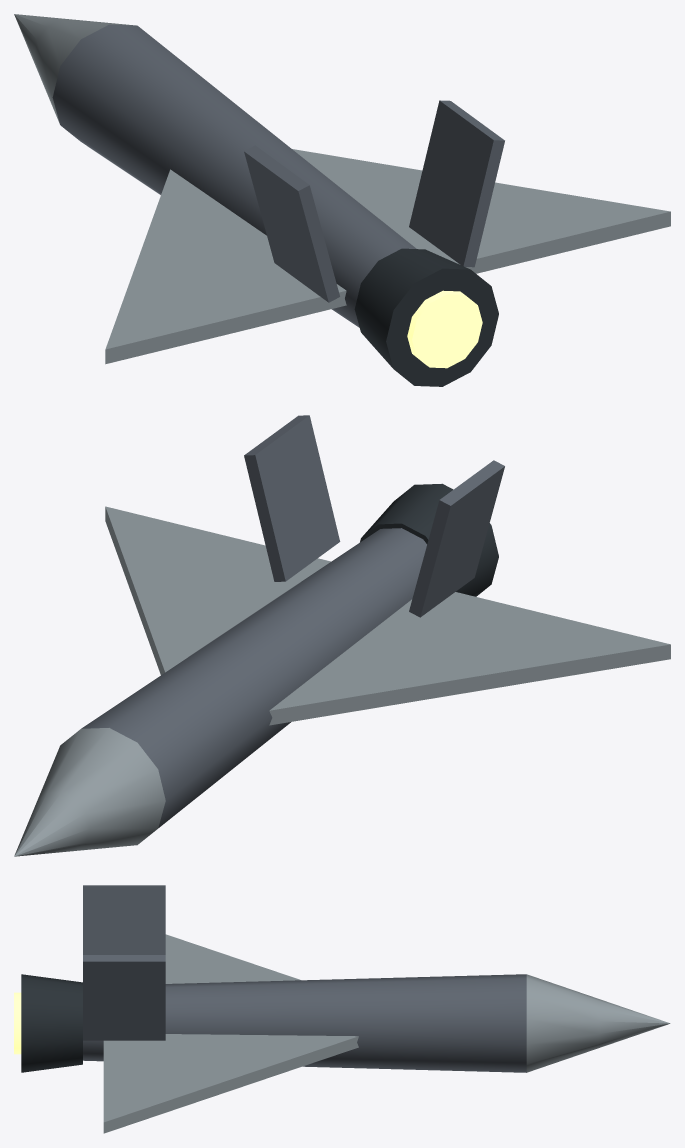
The model's file is drone_jet.glb.
3 renders of one model, top to bottom at view 1: azimuth 30°, elevation 25°; view 2: azimuth 150°, elevation 25°; view 3: azimuth 270°, elevation 25°, orthographic. The views are drawn at different scales.
Parts seen in each view (by area): view 1: DeltaWing, Fuselage, Nozzle, Fin3, Fin1, Glow, Nose; view 2: DeltaWing, Fuselage, Nose, Fin3, Fin1, Nozzle; view 3: Fuselage, DeltaWing, Nose, Fin3, Fin1, Nozzle, Glow.
Part boxes in pixels (x1,y1,x2,y2): DeltaWing: (105,149,670,364); Fuselage: (52,24,416,327); Nozzle: (354,248,498,386); Fin3: (409,100,504,267); Fin1: (244,145,339,302); Glow: (407,290,482,368); Nose: (14,14,136,123); DeltaWing: (105,506,670,725); Fuselage: (81,528,426,827); Nose: (14,728,165,856); Fin3: (244,415,340,581); Fin1: (409,460,504,617); Nozzle: (360,483,498,596); Fuselage: (83,974,526,1072); DeltaWing: (103,934,358,1133); Nose: (526,974,670,1072); Fin3: (83,955,165,1040); Fin1: (83,885,165,954); Nozzle: (21,974,82,1072); Glow: (14,992,21,1054).
Size of the model in its own units: 2.4 by 0.788 by 3.19.
